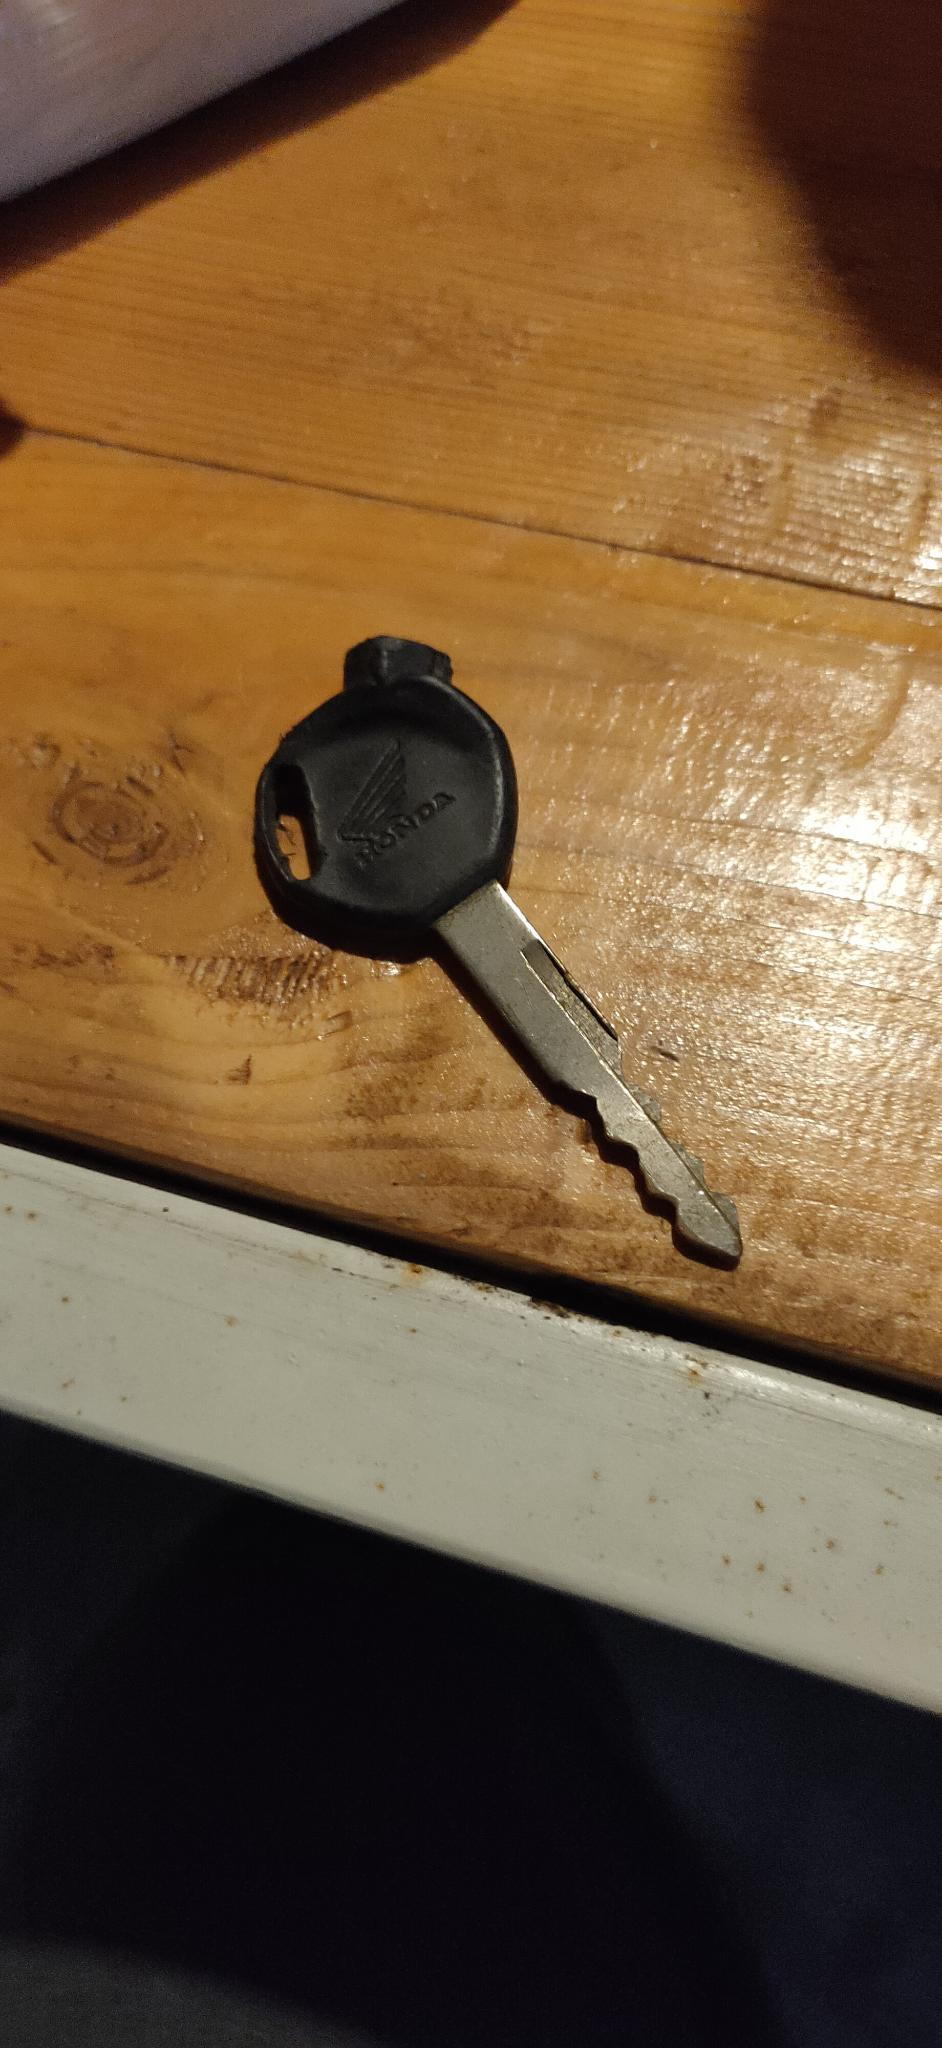keys: (243, 626, 753, 1280)
